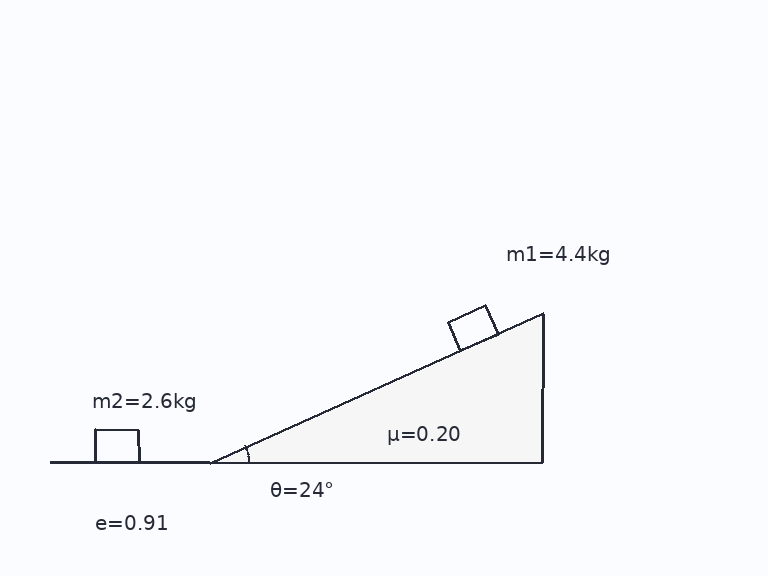block: (445, 303, 500, 352), (93, 428, 141, 464)
ramp: (207, 312, 544, 464)
